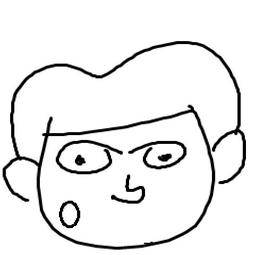eye: (54, 137, 116, 175), (136, 135, 188, 171)
large_ear: (211, 128, 251, 185), (3, 151, 41, 208)
nose: (105, 171, 156, 208)
open_mouth: (54, 196, 84, 233)
